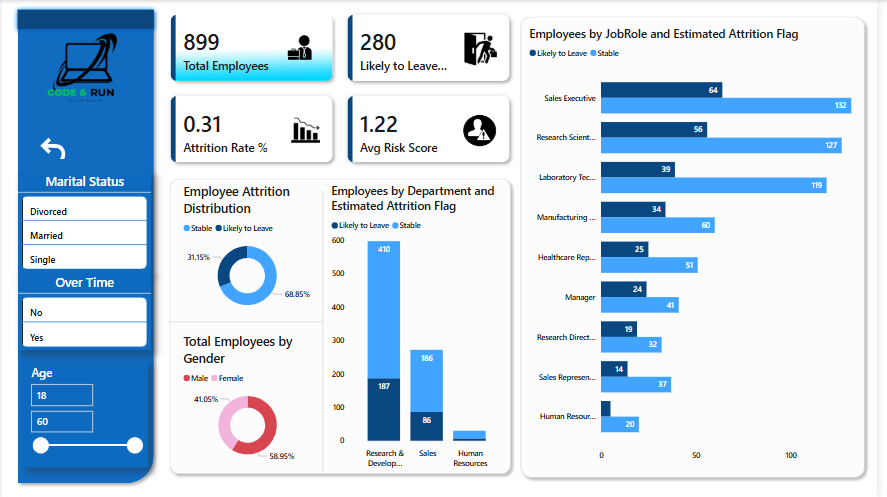

What the dashboard file says about the page in this screenshot:
{"tool":"powerbi","page":{"name":"ATTRITION OVERVIEW","canvas":[1400,800],"ordinal":0},"visuals":[{"type":"shape","box":[16,6,236,776],"z":0},{"type":"image","box":[0,0,265.7,234.3],"z":1000},{"type":"cardVisual","fields":{"Data":["Dataset.Total Employees","Dataset.Likely to Leave Count","Dataset.Attrition Rate %","Dataset.Avg Risk Score"]},"box":[252,6,577,270],"z":2000},{"type":"shape","box":[258.6,277.1,563.6,490.7],"z":3000},{"type":"donutChart","title":"Employee Attrition Distribution","fields":{"Y":["CountNonNull(Dataset.Participant)"],"Category":["Dataset.Estimated Attrition Flag"]},"box":[285,291.2,215,217.5],"z":4000},{"type":"donutChart","fields":{"Y":["Dataset.Total Employees"],"Category":["Dataset.Gender"]},"box":[285,531.2,216.2,216.2],"z":5000},{"type":"columnChart","title":" Employees by Department and Estimated Attrition Flag","fields":{"Y":["CountNonNull(Dataset.Participant)"],"Category":["Dataset.Department"],"Series":["Dataset.Estimated Attrition Flag"]},"box":[521.2,291.2,287.5,465],"z":6000},{"type":"shape","box":[15.9,5.9,235.9,49.3],"z":7000},{"type":"shape","box":[821.4,12.1,568.6,760.7],"z":8000},{"type":"clusteredBarChart","title":"Employees by JobRole and Estimated Attrition Flag","fields":{"Category":["Dataset.JobRole"],"Y":["CountNonNull(Dataset.Participant)"],"Series":["Dataset.Estimated Attrition Flag"]},"box":[838.6,40,561.4,707.1],"z":9000},{"type":"shape","box":[486.2,306.2,53.8,450],"z":10000},{"type":"shape","box":[265.4,509.2,247.7,12.3],"z":11000},{"type":"advancedSlicerVisual","title":"Marital Status","fields":{"Values":["Dataset.Marital Status"]},"box":[25.7,275.7,212.9,161.4],"z":12000},{"type":"advancedSlicerVisual","fields":{"Values":["Dataset.Over Time"]},"box":[25.7,437.1,212.9,124.3],"z":13000},{"type":"slicer","fields":{"Values":["Dataset.Age"]},"box":[32.9,577.1,200,170],"z":14000},{"type":"actionButton","box":[45.7,205.7,102.9,57.1],"z":15000}]}

Visuals, with their boxes in screenshot pixels (x1, y1, x2, y2), scaled from the page's 1400x800 canvas onto the 887x497 screenshot:
shape: bbox(10, 4, 160, 486)
image: bbox(0, 0, 168, 146)
cardVisual - Dataset.Total Employees x Dataset.Likely to Leave Count: bbox(160, 4, 525, 171)
shape: bbox(164, 172, 521, 477)
"Employee Attrition Distribution" donutChart: bbox(181, 181, 317, 316)
donutChart - Dataset.Total Employees x Dataset.Gender: bbox(181, 330, 318, 464)
" Employees by Department and Estimated Attrition Flag" columnChart: bbox(330, 181, 512, 470)
shape: bbox(10, 4, 160, 34)
shape: bbox(520, 8, 881, 480)
"Employees by JobRole and Estimated Attrition Flag" clusteredBarChart: bbox(531, 25, 886, 464)
shape: bbox(308, 190, 342, 470)
shape: bbox(168, 316, 325, 324)
"Marital Status" advancedSlicerVisual: bbox(16, 171, 151, 272)
advancedSlicerVisual - Dataset.Over Time: bbox(16, 272, 151, 349)
slicer - Dataset.Age: bbox(21, 359, 148, 464)
actionButton: bbox(29, 128, 94, 163)
